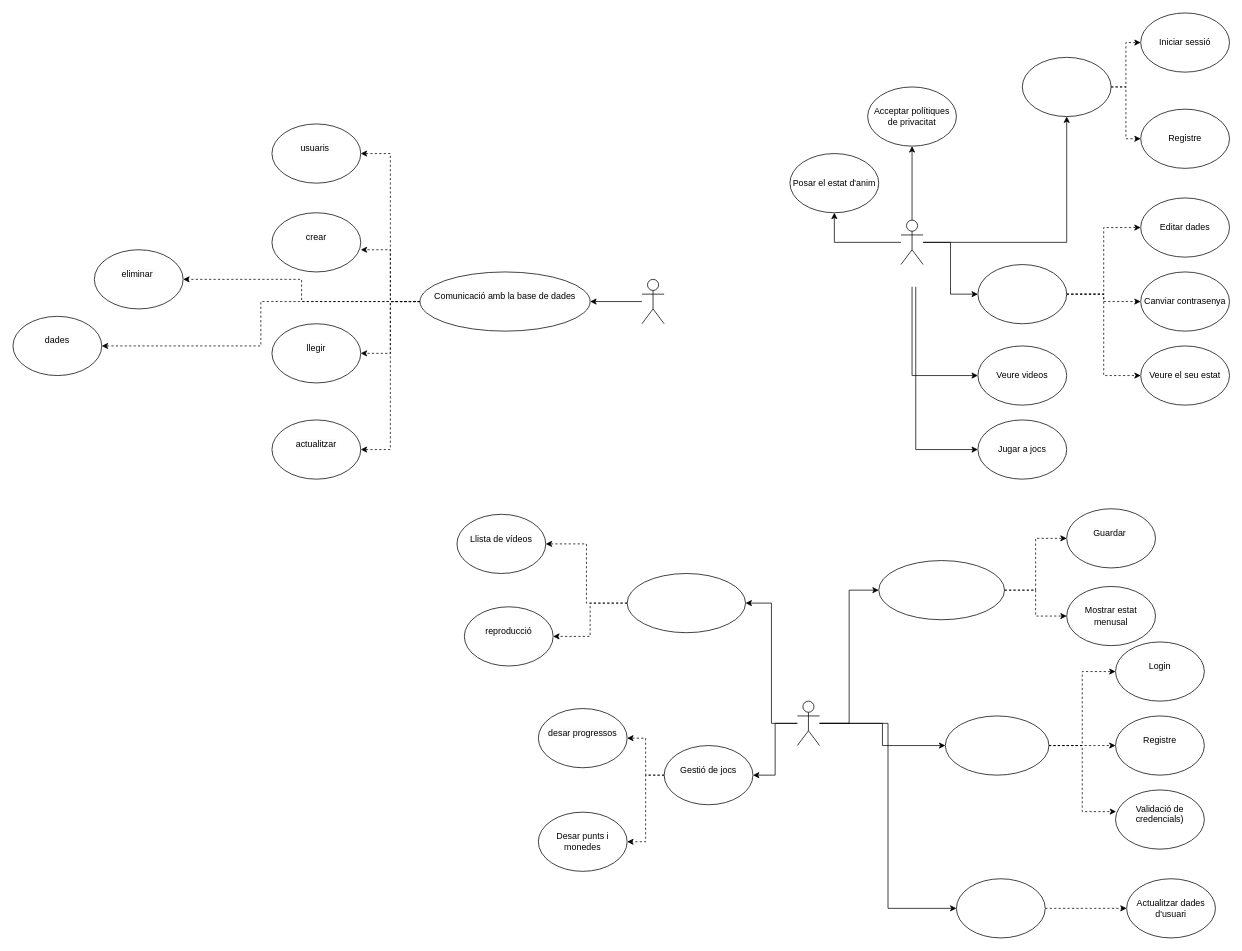
Image size: 1242x951. Some labels were removed from this diagram. The shapes that lost their labels are listed below. From the top down, each one's centre as x and y in pixels, then its label:
At [1066,87]: "Loggin".
At [911,242]: "Usuari".
At [652,301]: "Software".
At [1022,294]: "Gestionar el perfil".
At [686,603]: "Gestió de contingut multimèdia".
At [941,590]: "Control d’estat d’ànim".
At [808,723]: "API".
At [997,745]: "Autenticació d’usuaris".
At [1000,908]: "Gestió del perfil".
